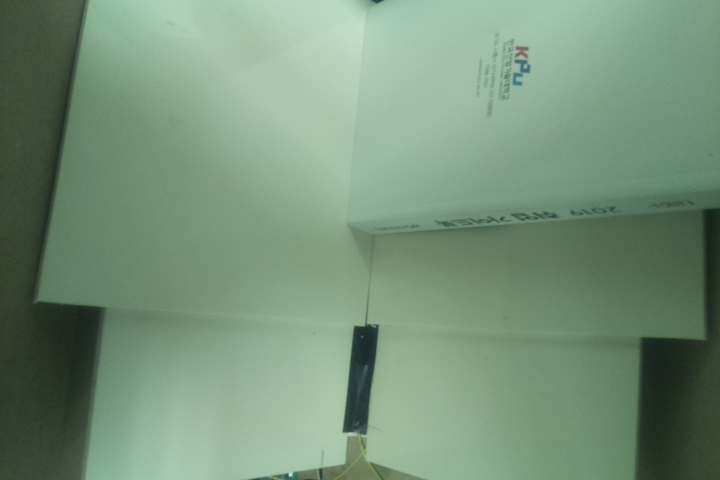book: (345, 1, 719, 248)
